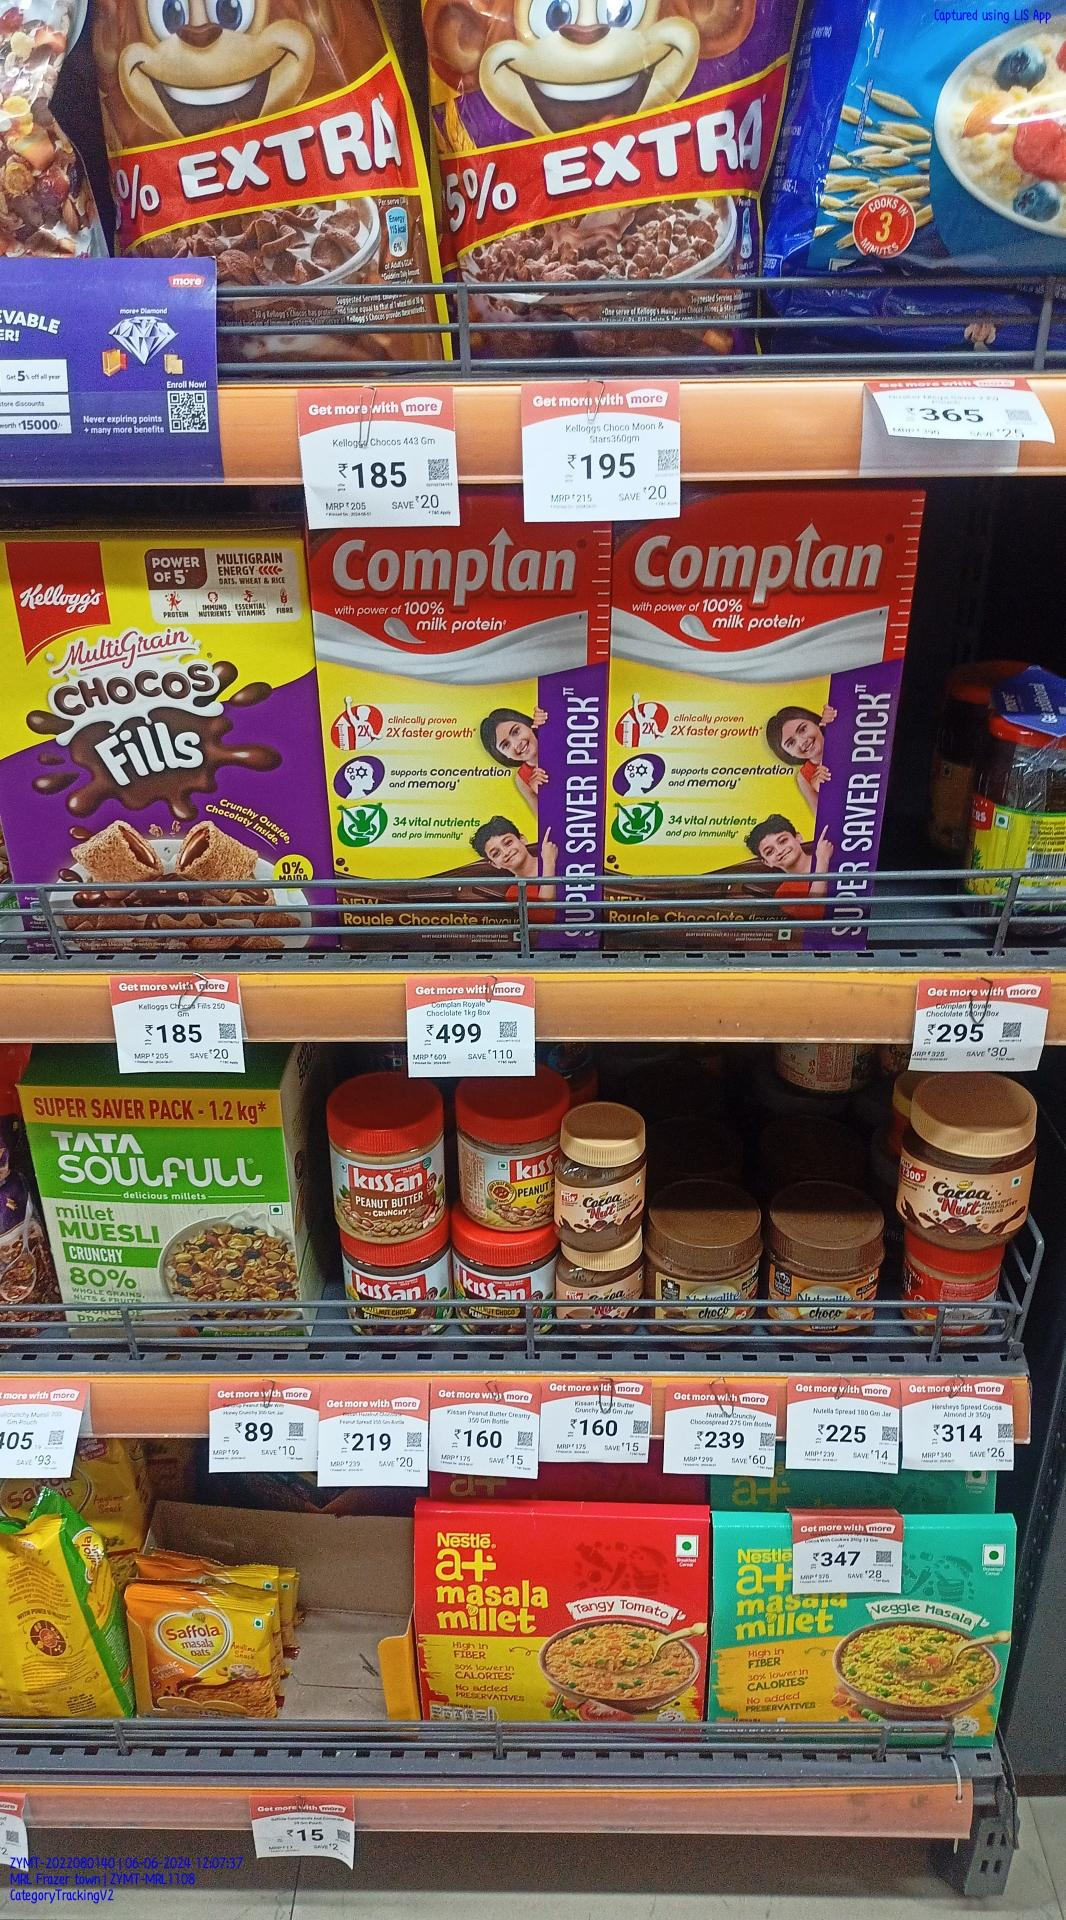COMPLAN_CHOCOLATE_1_KG_PACK: (614, 492, 907, 948), (324, 528, 608, 949)
